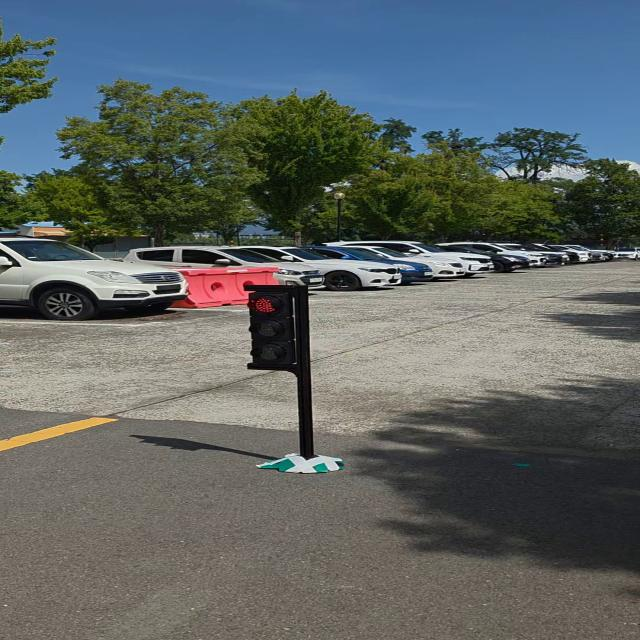red: (240, 288, 305, 371)
